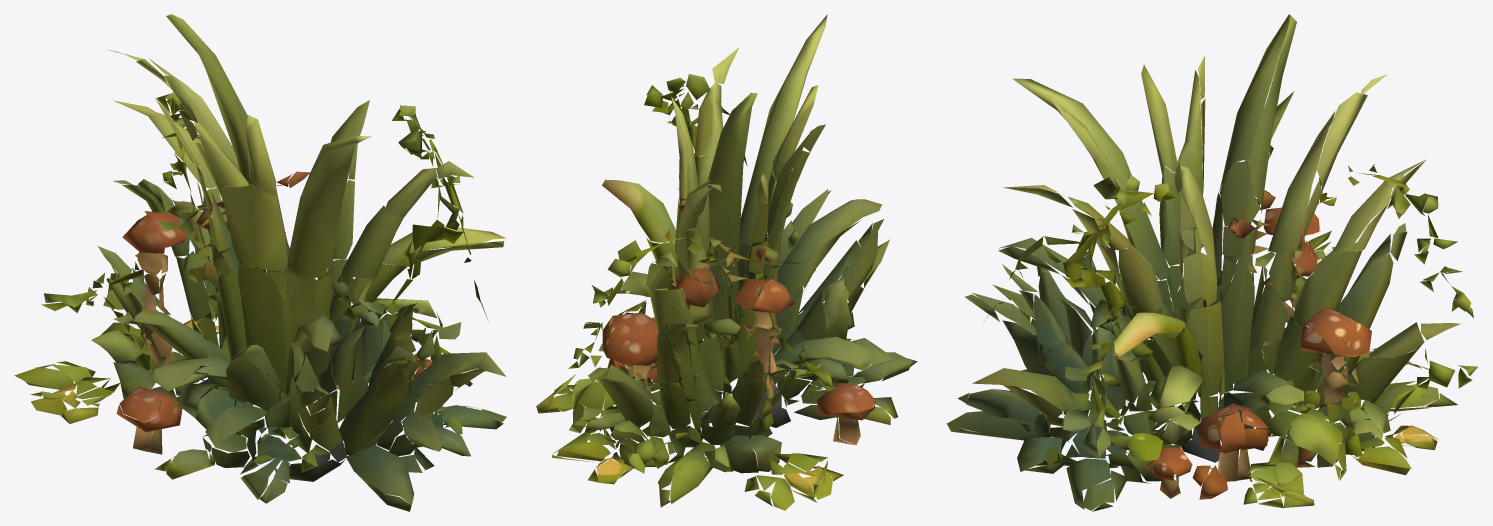
File: ervas.glb
3 views of the same model, side by side, from view 1: azimuth 30°, elevation 25°; view 2: azimuth 150°, elevation 25°; view 3: azimuth 270°, elevation 25° (orthographic). The views are drawn at different scales.
Visible parts, largest first — view 1: tripo_node_d99e4d8c-f3c4-4d29-9508-8748bf8da663; view 2: tripo_node_d99e4d8c-f3c4-4d29-9508-8748bf8da663; view 3: tripo_node_d99e4d8c-f3c4-4d29-9508-8748bf8da663.
Part boxes in pixels (x1,y1,x2,y2): tripo_node_d99e4d8c-f3c4-4d29-9508-8748bf8da663: [14, 14, 506, 511]; tripo_node_d99e4d8c-f3c4-4d29-9508-8748bf8da663: [536, 14, 917, 510]; tripo_node_d99e4d8c-f3c4-4d29-9508-8748bf8da663: [946, 14, 1477, 511].
Bounding box in the file's own units: 0.7713 × 0.8067 × 1.
1 material, 1 textured.
